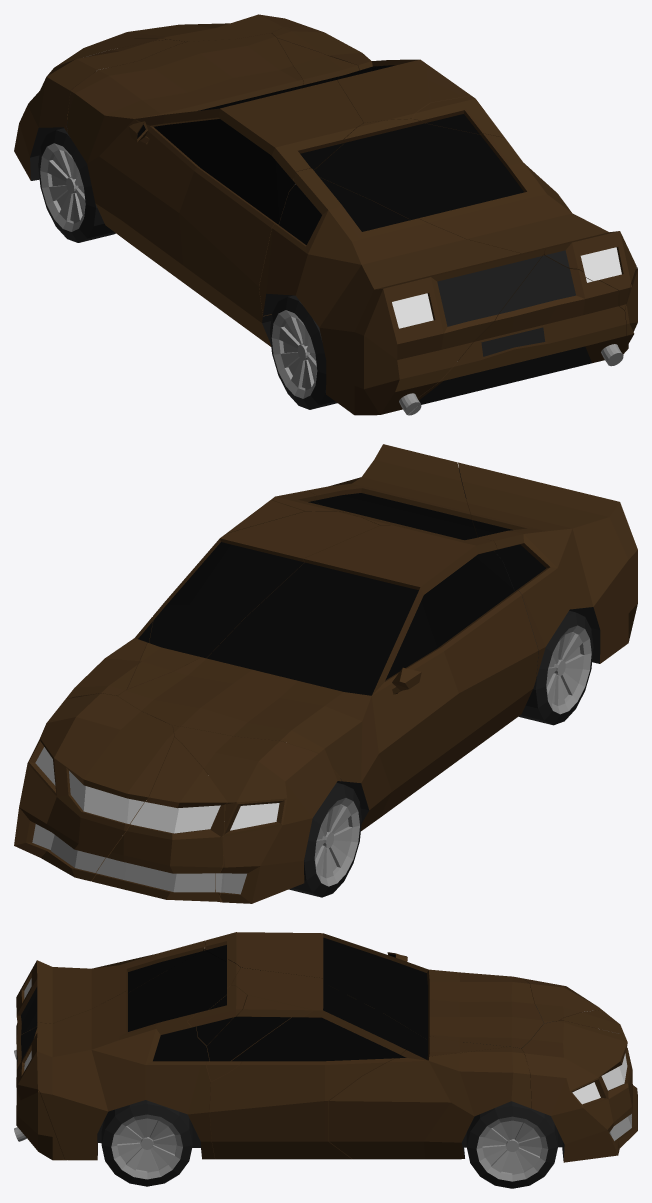
The model's file is brokenmedium.fbx.
The picture shows the model from 3 angles, top to bottom: view 1: azimuth 30°, elevation 25°; view 2: azimuth 150°, elevation 25°; view 3: azimuth 270°, elevation 25°; orthographic projection. The views are drawn at different scales.
Visible parts, largest first — view 1: Cube_cell.008, Cube_cell.001, Cube_cell.012, Cube_cell.007, Cube_cell.005, Cube_cell.004, Cube.003, Cube.002, Cube_cell.009, Cube_cell.006, Cube_cell.002, Cube_cell.010 (+2 smaller); view 2: Cube_cell.008, Cube_cell.001, Cube_cell.009, Cube_cell.004, Cube_cell.005, Cube_cell.010, Cube_cell.012, Cube.002, Cube.003, Cube_cell.002, Cube_cell, Cube_cell.006; view 3: Cube_cell.012, Cube_cell.005, Cube_cell.008, Cube_cell.002, Cube_cell.009, Cube_cell.001, Cube.005, Cube.004, Cube_cell, Cube_cell.011, Cube_cell.004, Cube_cell.006 (+2 smaller).
Part boxes in pixels (x1,y1,x2,y2): Cube_cell.008: [67, 33, 363, 346]; Cube_cell.001: [259, 168, 544, 415]; Cube_cell.012: [314, 119, 636, 361]; Cube_cell.007: [408, 255, 626, 415]; Cube_cell.005: [277, 38, 430, 176]; Cube_cell.004: [14, 39, 186, 180]; Cube.003: [38, 128, 115, 242]; Cube.002: [270, 295, 337, 409]; Cube_cell.009: [109, 14, 311, 64]; Cube_cell.006: [413, 95, 504, 137]; Cube_cell.002: [271, 27, 382, 70]; Cube_cell.010: [59, 38, 166, 119]; Cube_cell.008: [118, 525, 538, 830]; Cube_cell.001: [458, 462, 637, 677]; Cube_cell.009: [14, 693, 173, 881]; Cube_cell.004: [123, 725, 341, 903]; Cube_cell.005: [127, 511, 379, 799]; Cube_cell.010: [91, 737, 227, 901]; Cube_cell.012: [308, 444, 477, 540]; Cube.002: [518, 610, 593, 725]; Cube.003: [289, 783, 361, 897]; Cube_cell.002: [66, 617, 153, 702]; Cube_cell: [226, 500, 304, 533]; Cube_cell.006: [271, 490, 343, 512]; Cube_cell.012: [16, 947, 240, 1160]; Cube_cell.005: [209, 967, 508, 1159]; Cube_cell.008: [205, 932, 543, 1048]; Cube_cell.002: [329, 1047, 531, 1159]; Cube_cell.009: [521, 1021, 637, 1162]; Cube_cell.001: [14, 940, 205, 1058]; Cube.005: [101, 1100, 192, 1186]; Cube.004: [466, 1101, 557, 1188]; Cube_cell: [206, 995, 312, 1081]; Cube_cell.011: [16, 1085, 64, 1160]; Cube_cell.004: [496, 978, 601, 1048]; Cube_cell.006: [187, 985, 246, 1045].
Bounding box in the file's own units: 185 × 133 × 449.
